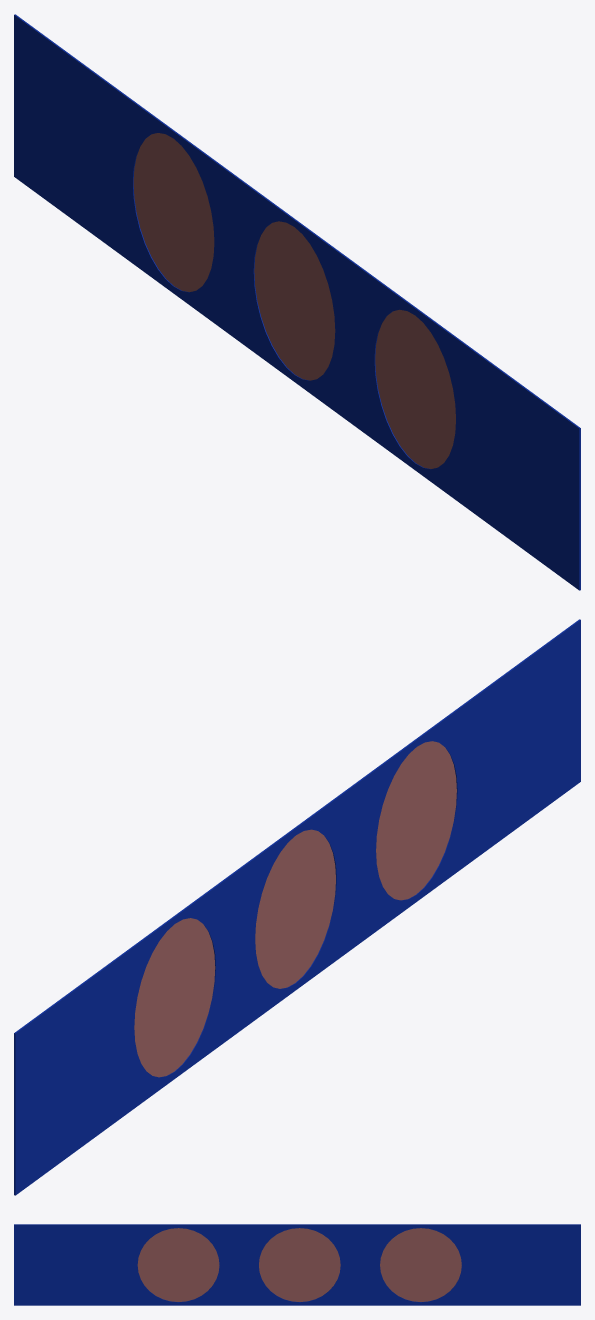
File: 10x63 3 circles.FBX
3 views of the same model, one above another, from view 1: azimuth 30°, elevation 25°; view 2: azimuth 150°, elevation 25°; view 3: azimuth 270°, elevation 25° (orthographic). The views are drawn at different scales.
Visible parts, largest first — view 1: Box041; view 2: Box041; view 3: Box041.
Boxes of the visible parts, bbox=[...] form: Box041: bbox=[14, 14, 580, 590]; Box041: bbox=[14, 619, 580, 1195]; Box041: bbox=[14, 1224, 580, 1305].
Size of the model in its own units: 0.1 by 10 by 63.25.
